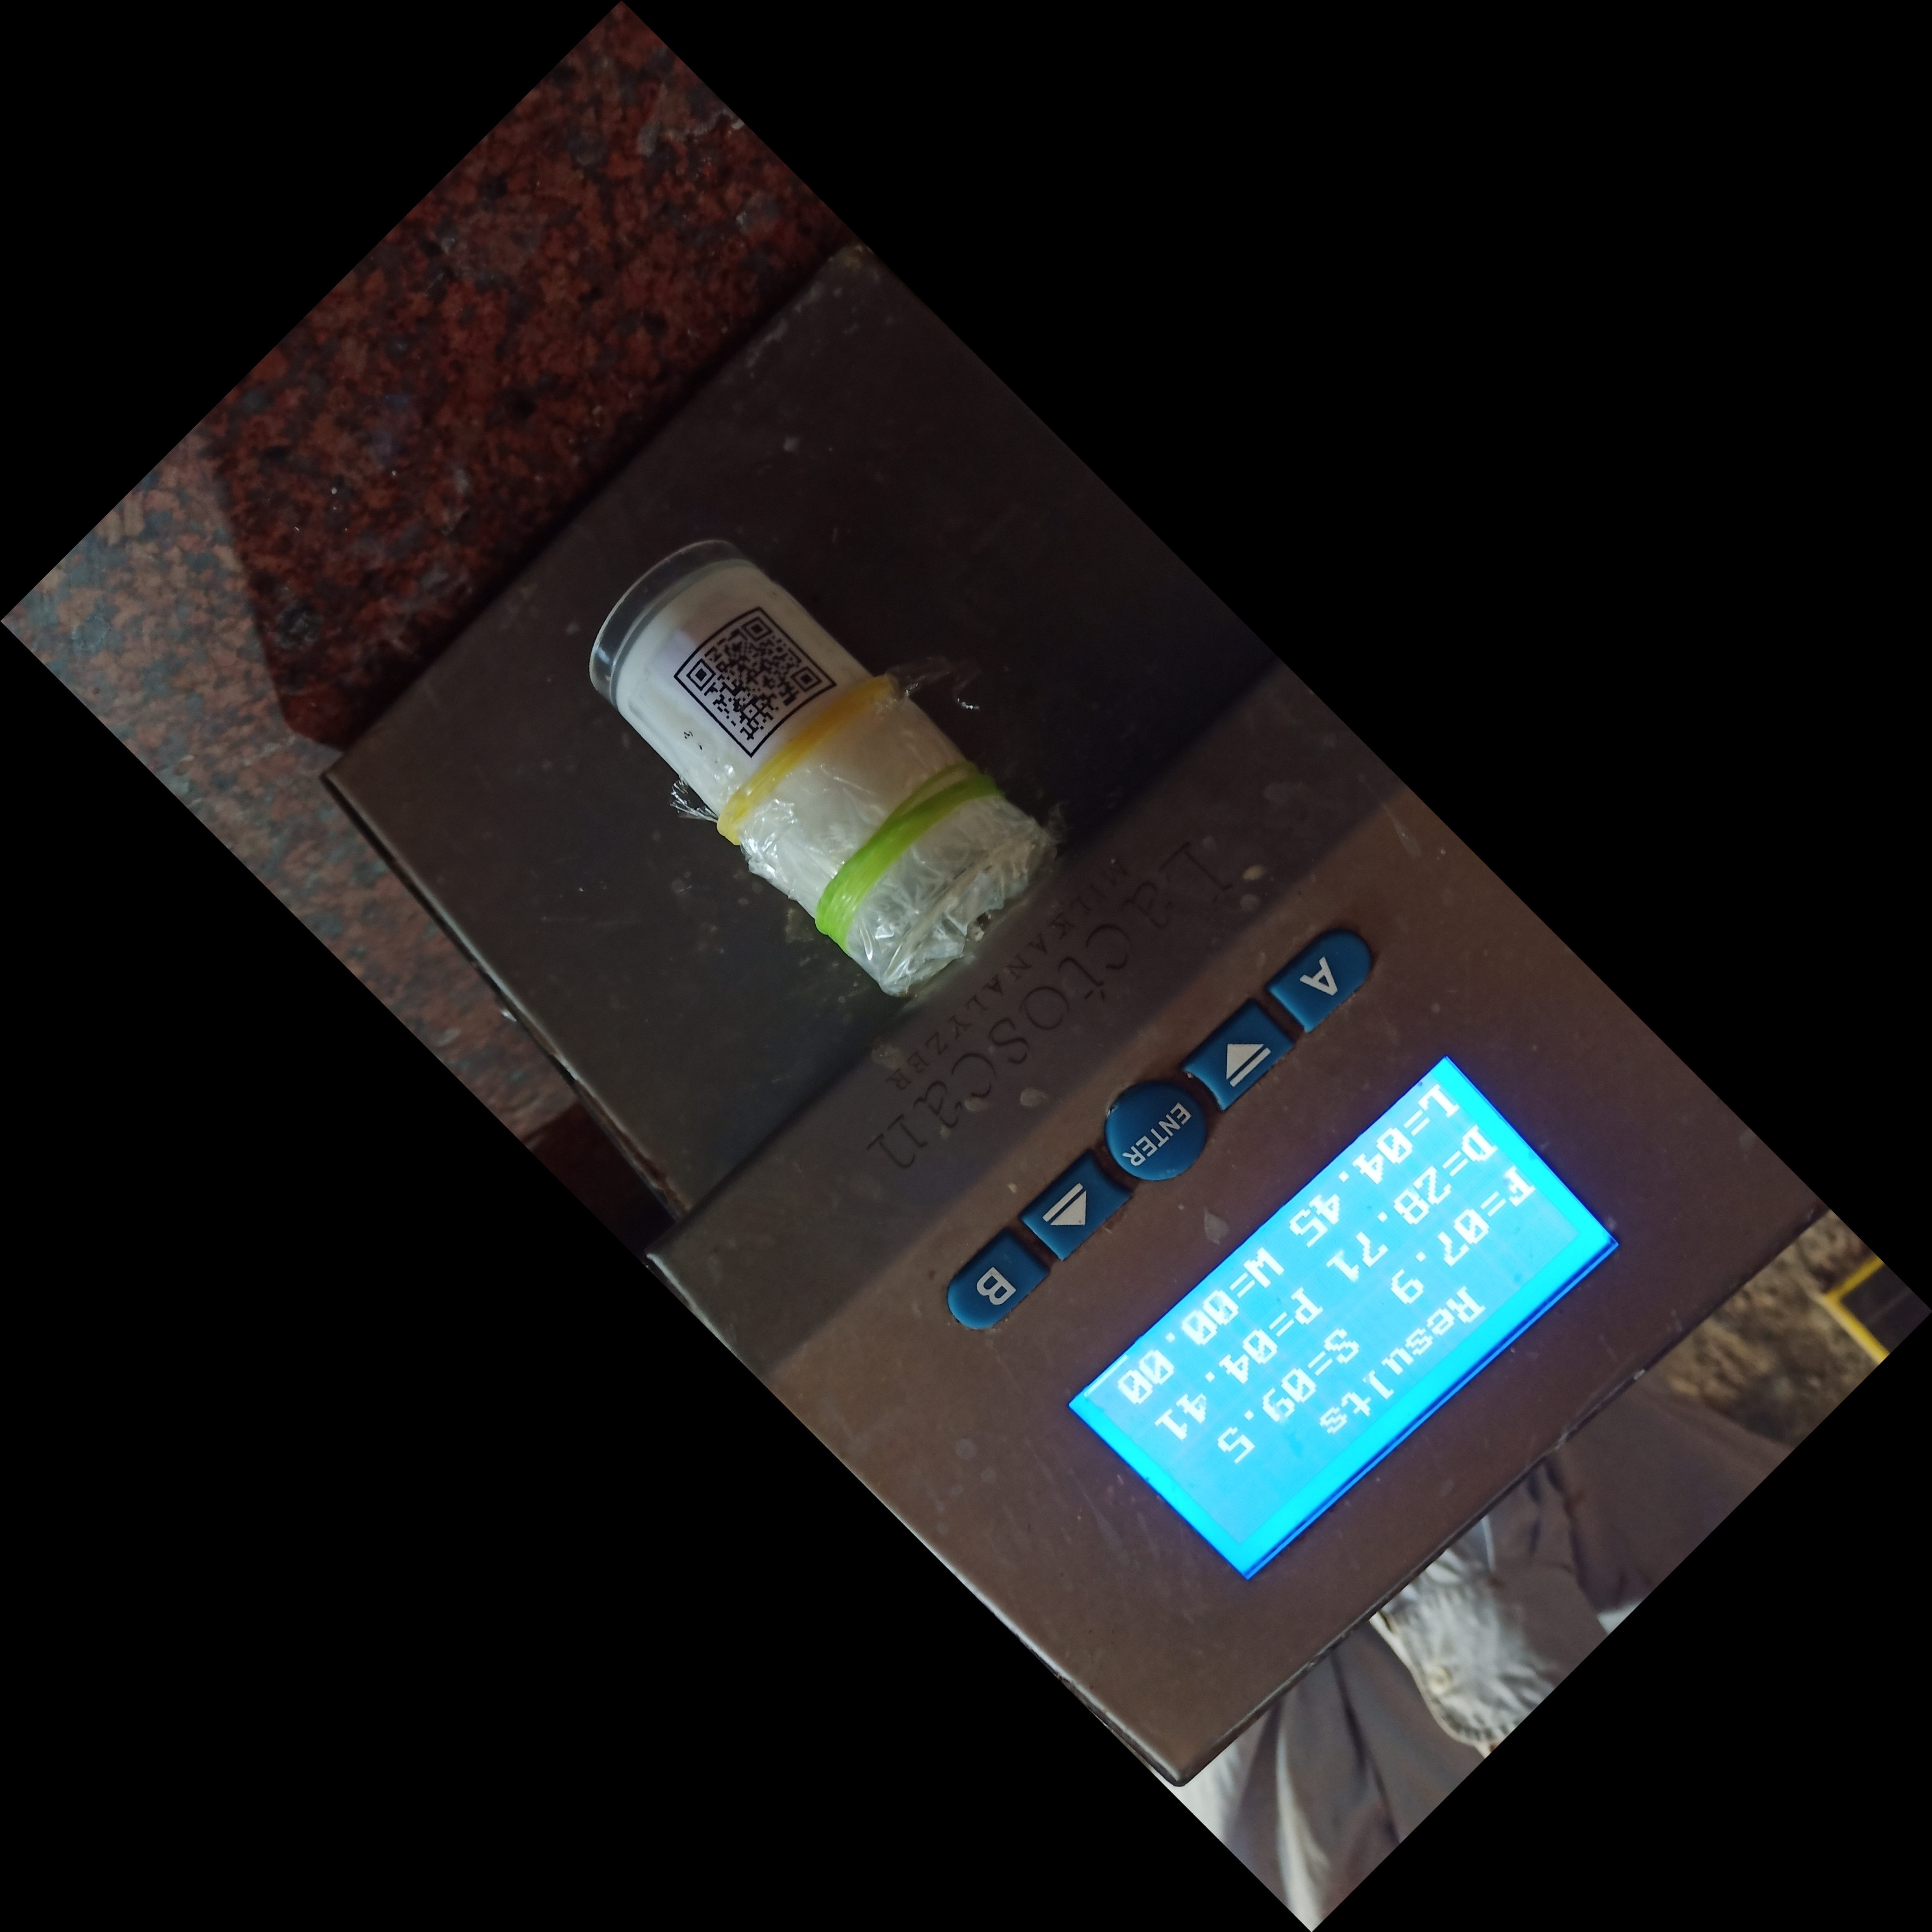lcd: (1030, 1019, 1665, 1622)
qr: (662, 580, 855, 787)
